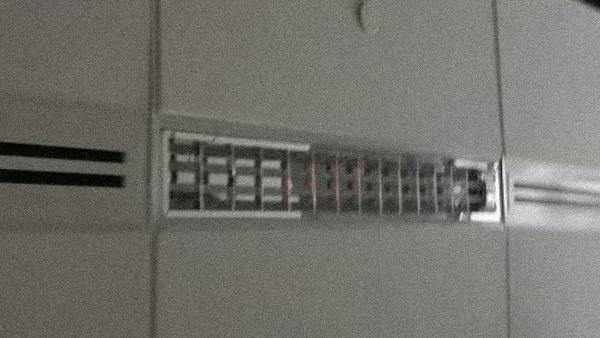light_off: (140, 101, 509, 253)
